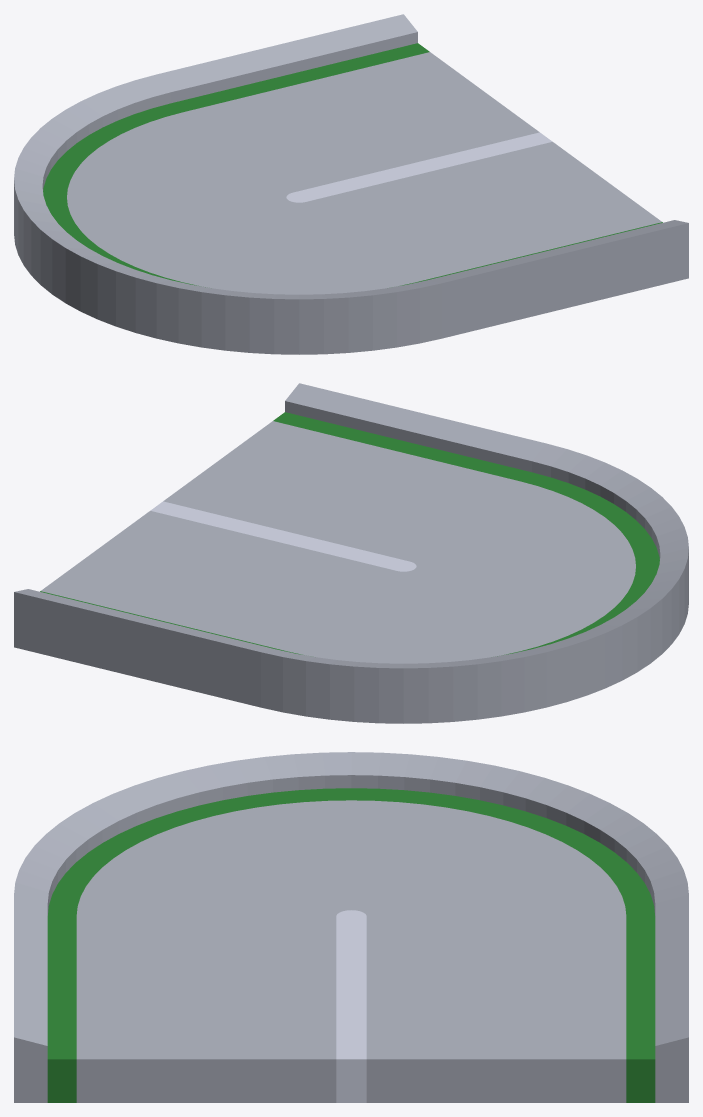
File: basic_road_end.glb
3 views of the same model, one above another, from view 1: azimuth 30°, elevation 25°; view 2: azimuth 150°, elevation 25°; view 3: azimuth 270°, elevation 25° (orthographic). The views are drawn at different scales.
Visible parts, largest first — view 1: road_end; view 2: road_end; view 3: road_end.
Part boxes in pixels (x1,y1,x2,y2): road_end: [14, 14, 688, 354]; road_end: [14, 383, 688, 723]; road_end: [14, 752, 688, 1102].
Bounding box in the file's own units: 14 × 1.5 × 14.
